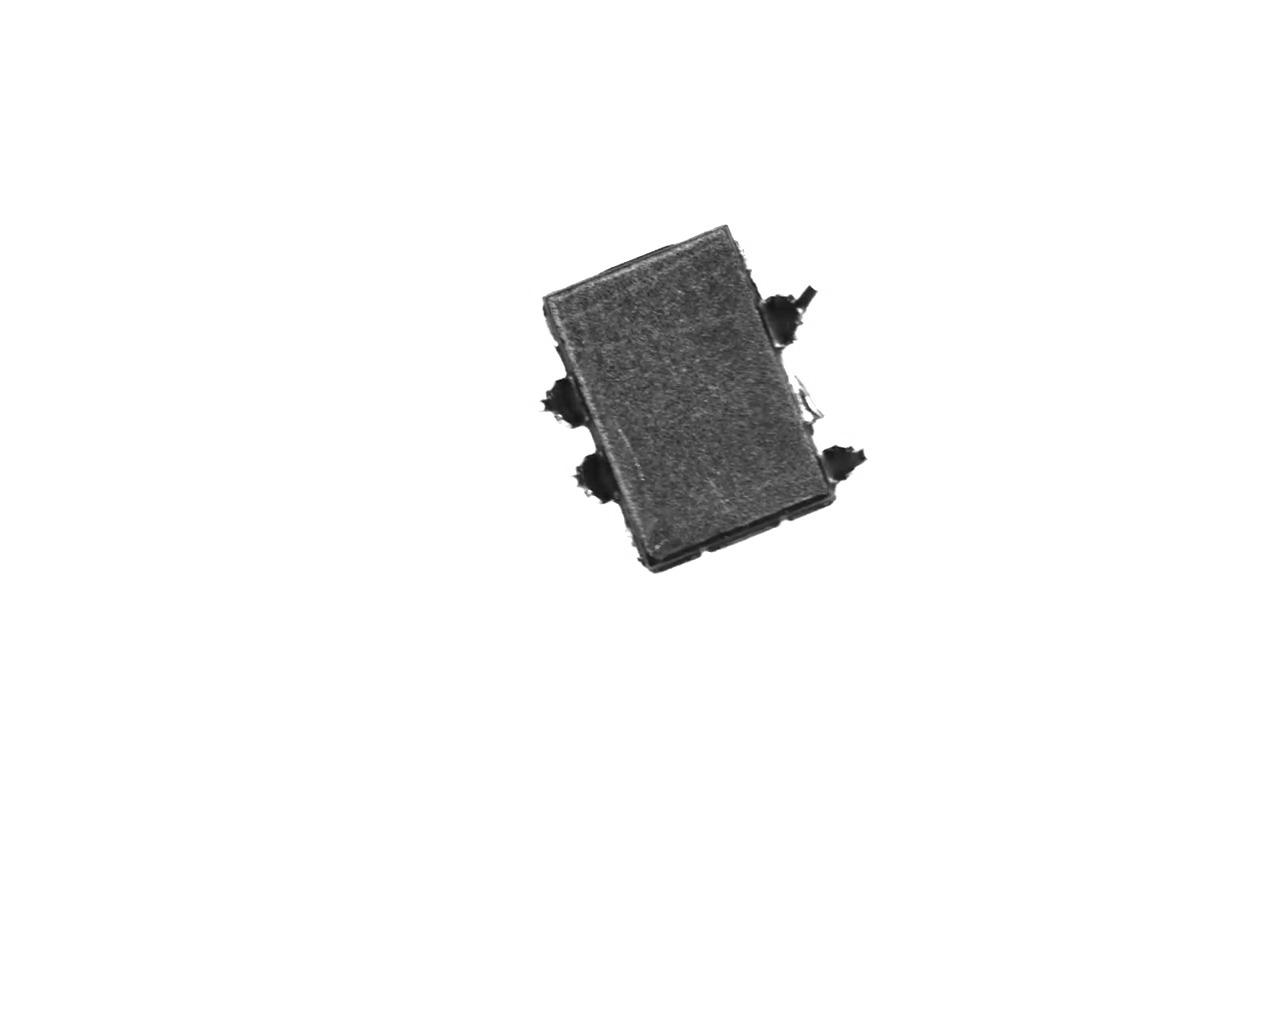brokenLeg: (759, 277, 822, 350), (528, 369, 595, 433), (559, 441, 619, 507), (820, 443, 870, 484)
missingLeg: (777, 363, 828, 432), (614, 506, 653, 567), (726, 227, 765, 283), (538, 307, 571, 365)
